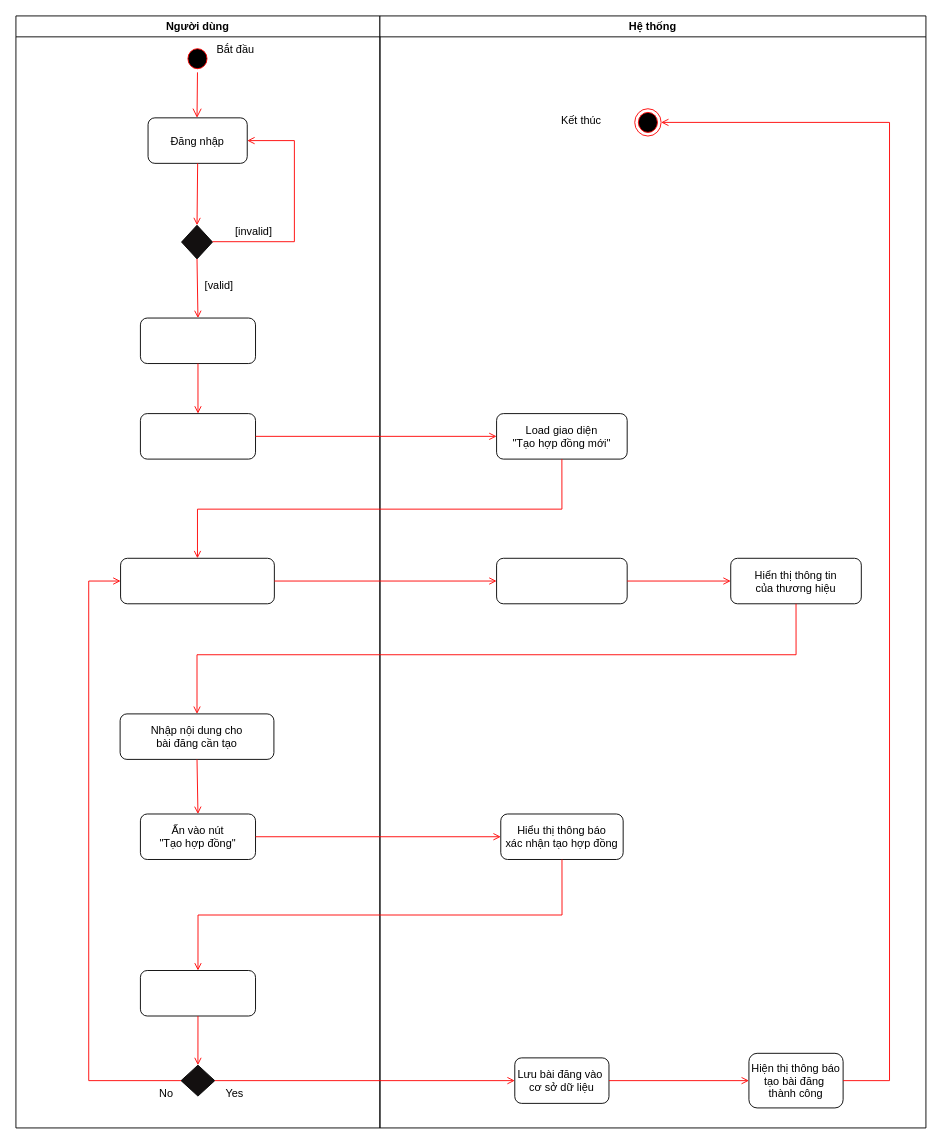
Some shapes in this 942 by 1144 pixel diagram are drawn without their labels. Here are the shapes that lost their labels. From the top down, the centre of each, then its label:
point (198, 340): Chọn vào mục "Quản lý hợp đồng"
point (198, 436): Chọn vào mục "Tạo hợp đồng mới"
point (197, 580): Nhập thông tin của hợp đồng
point (561, 580): Truy xuất thông tin của thương hiệu
point (198, 993): Xác nhận tạo hợp đồng
